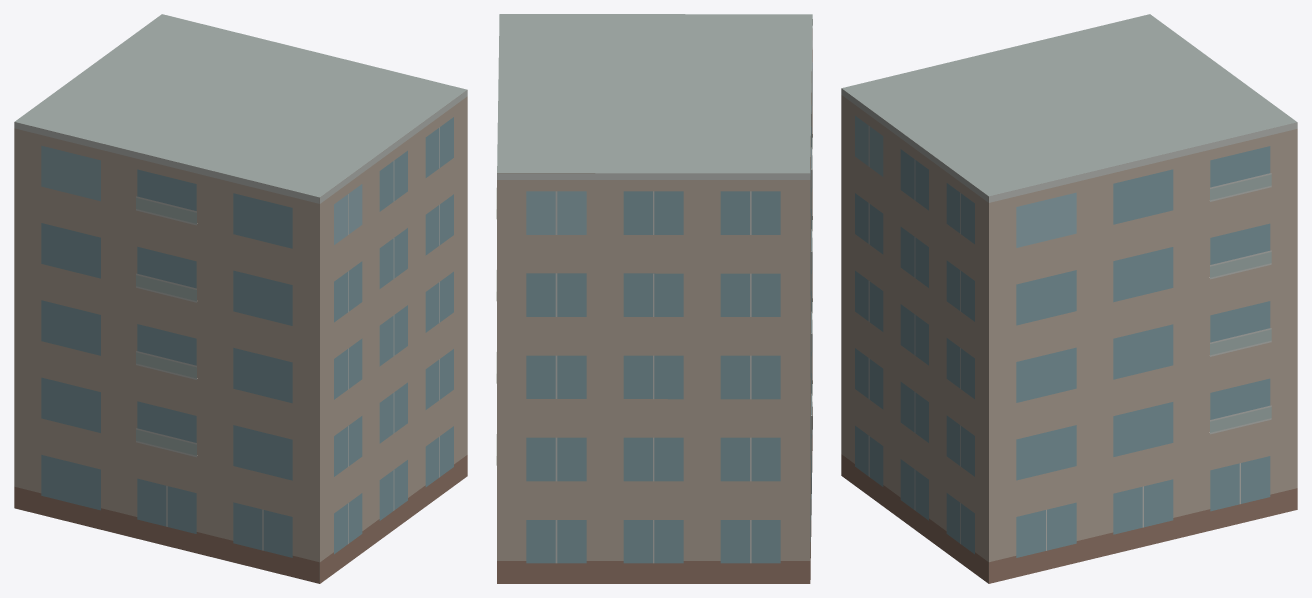
File: survey-upis-32977312.glb
3 views of the same model, side by side, from view 1: azimuth 30°, elevation 25°; view 2: azimuth 150°, elevation 25°; view 3: azimuth 270°, elevation 25° (orthographic). The views are drawn at different scales.
Visible parts, largest first — view 1: survey-upis-32977312.tmp; view 2: survey-upis-32977312.tmp; view 3: survey-upis-32977312.tmp.
Part boxes in pixels (x1,y1,x2,y2): survey-upis-32977312.tmp: (14,14,467,583); survey-upis-32977312.tmp: (496,14,812,583); survey-upis-32977312.tmp: (841,14,1297,583).
Bounding box in the file's own units: 14.6 × 14.45 × 15.43.
